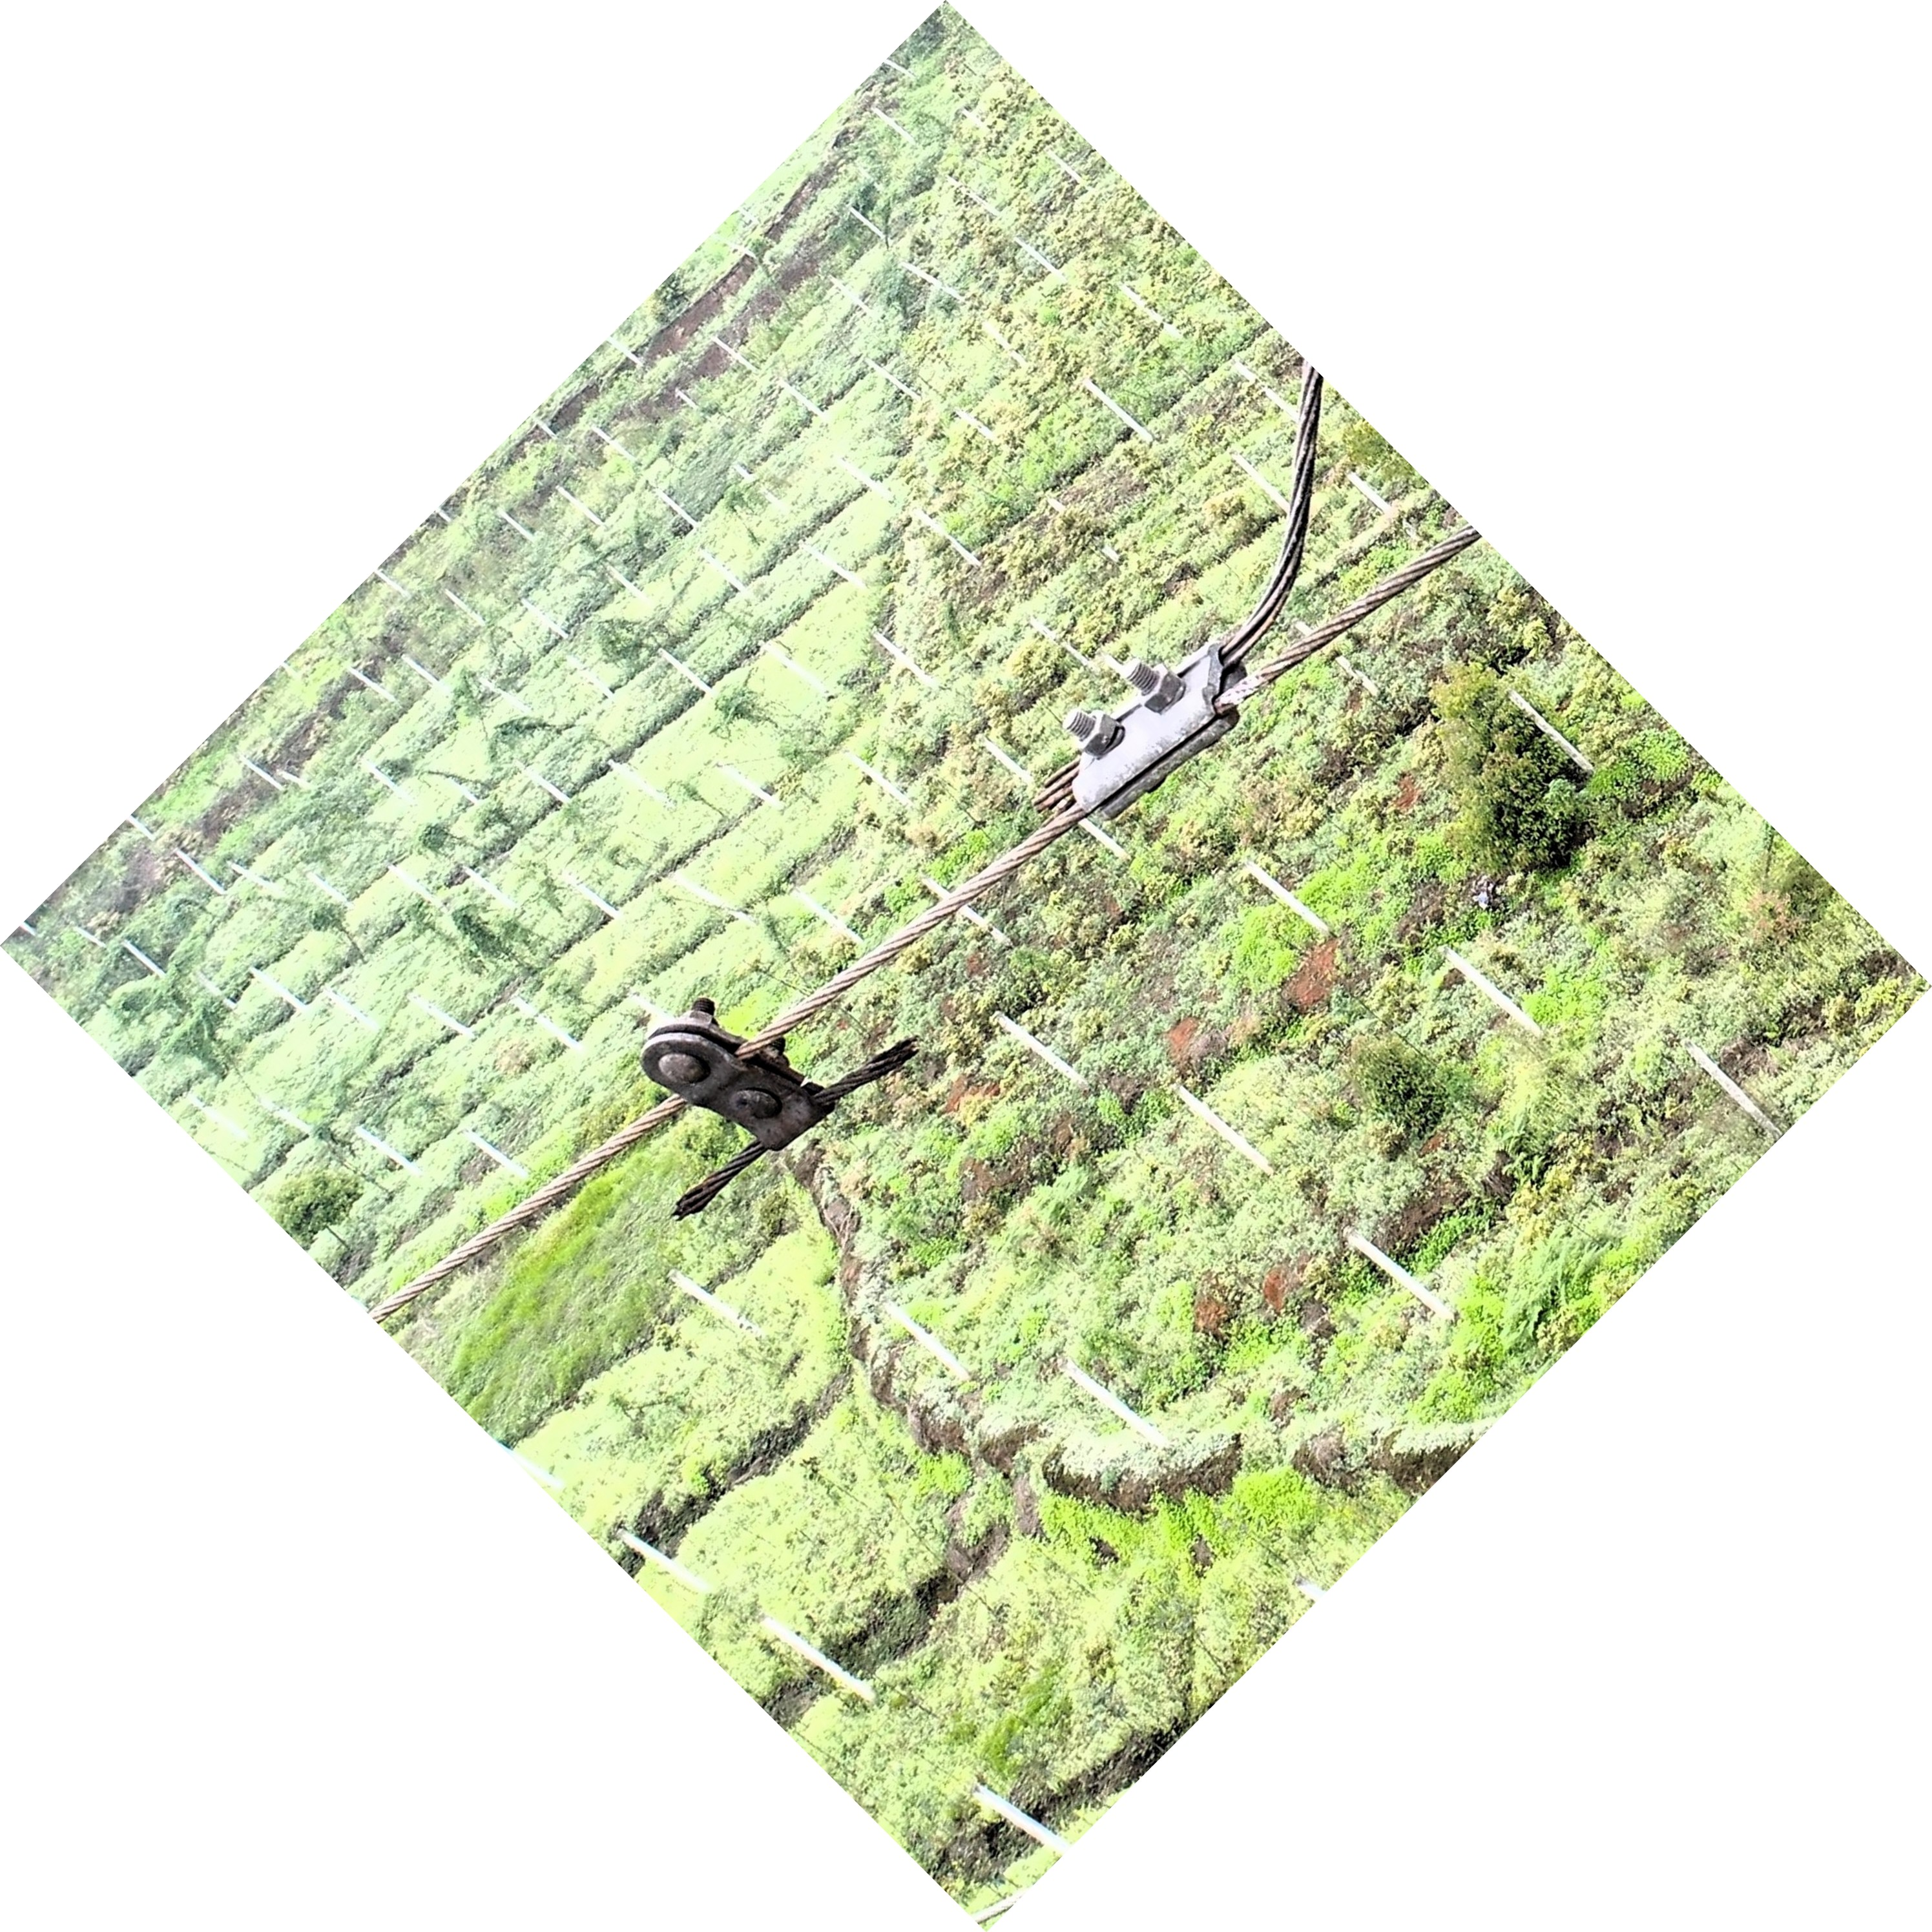Damage of shockproof hammer: (619, 955, 968, 1254)
